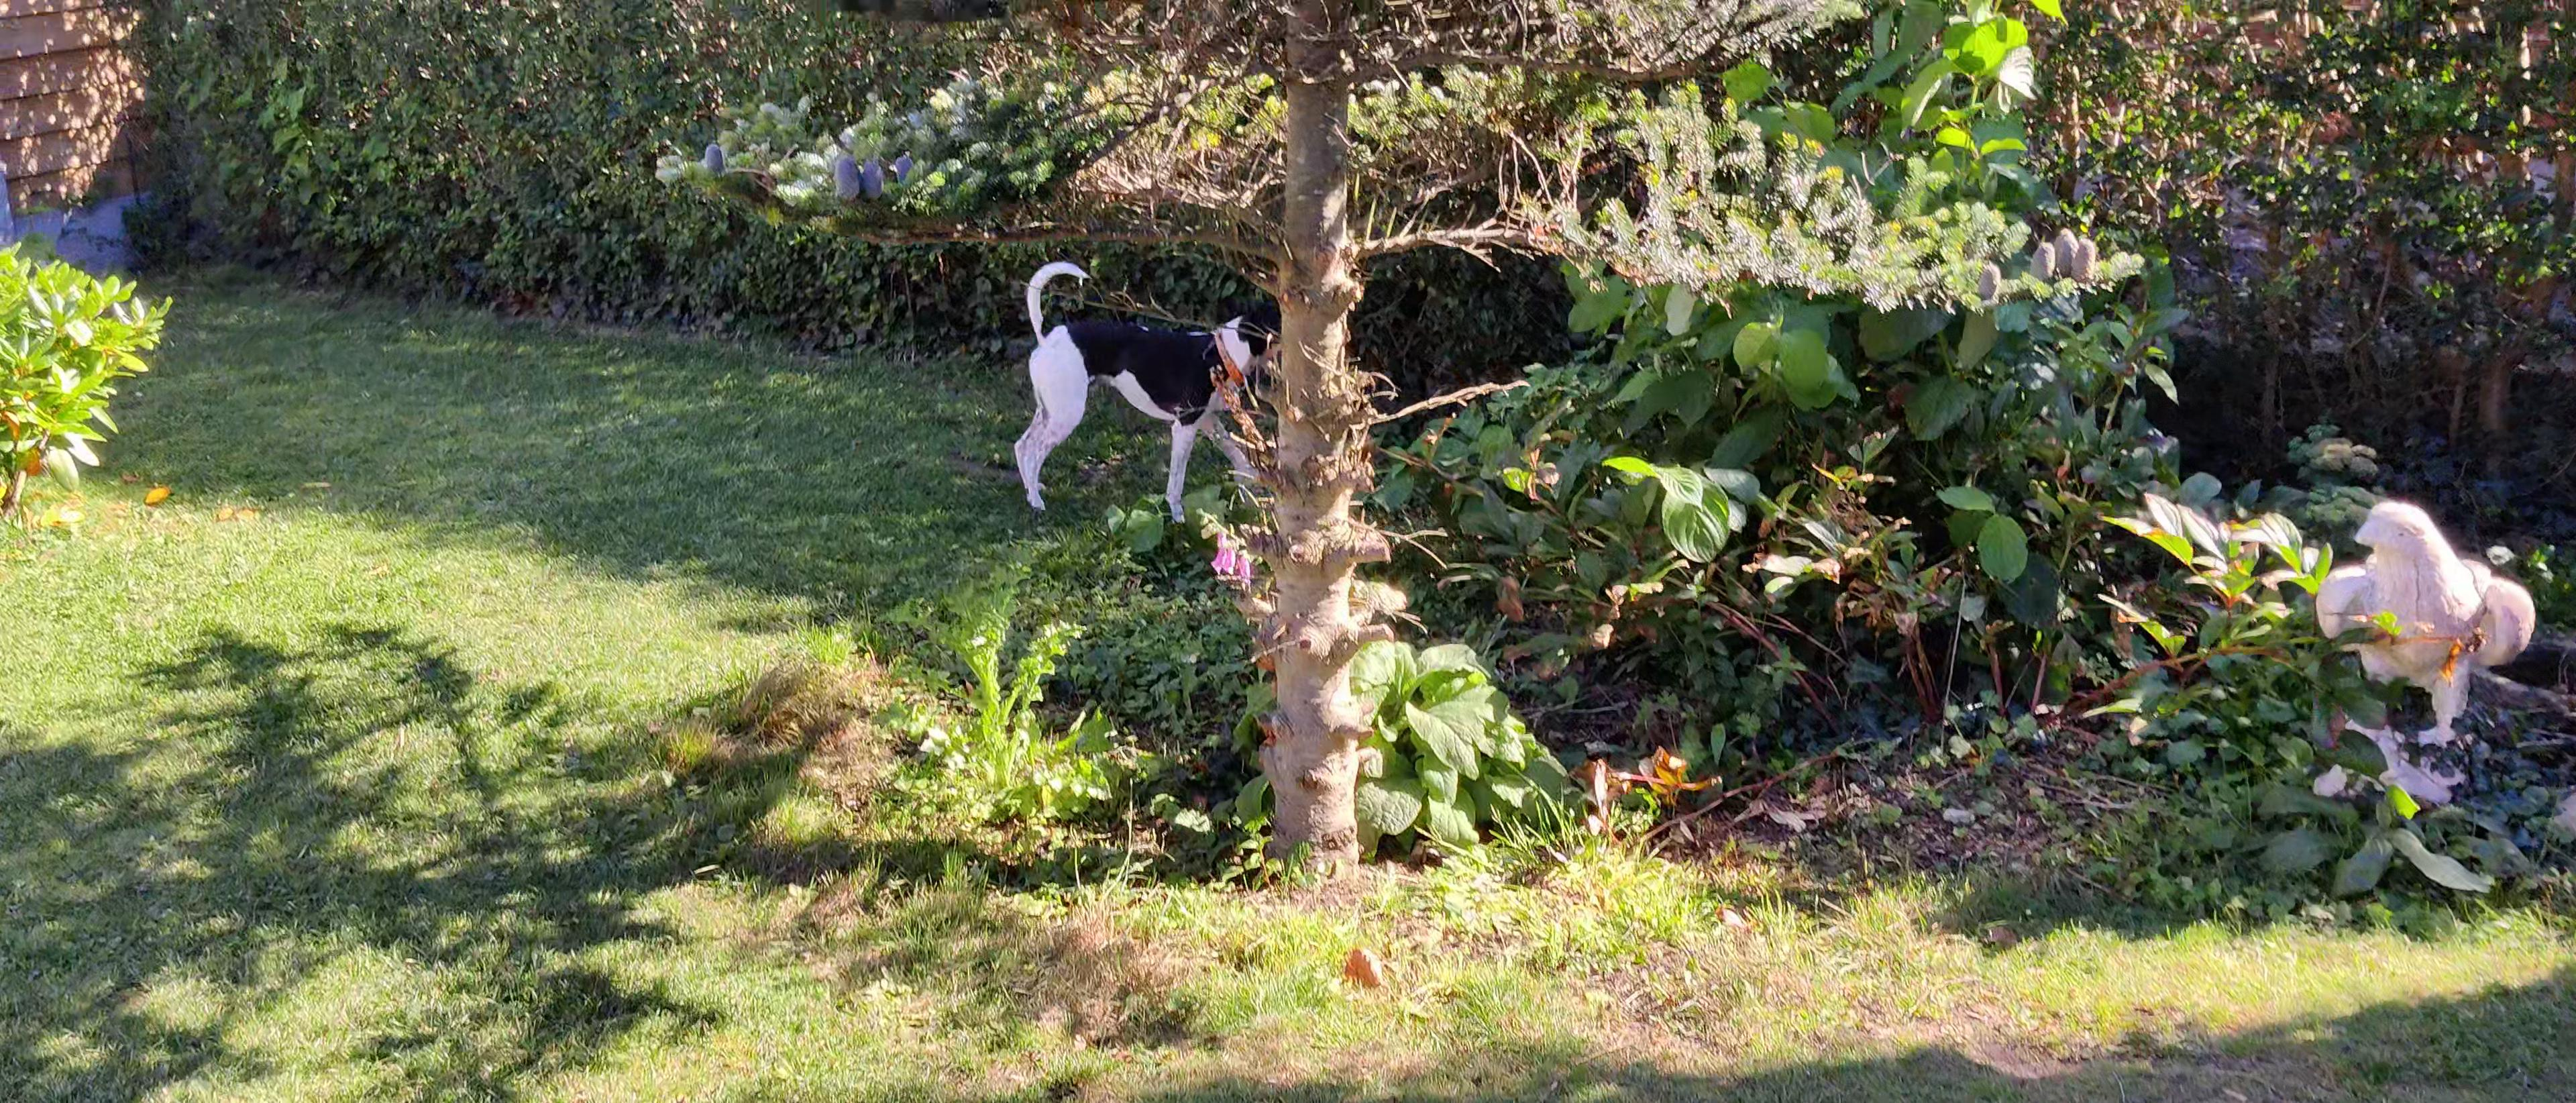Dog: (1005, 255, 1293, 523)
